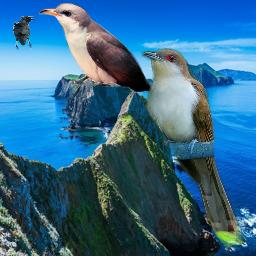Crow: (13, 15, 35, 50)
Cuckoo: (141, 48, 243, 247), (39, 3, 155, 93)
